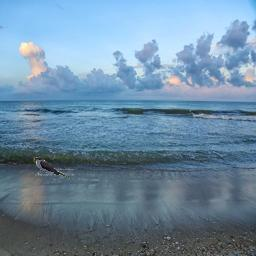Cuckoo: (33, 157, 71, 180)
